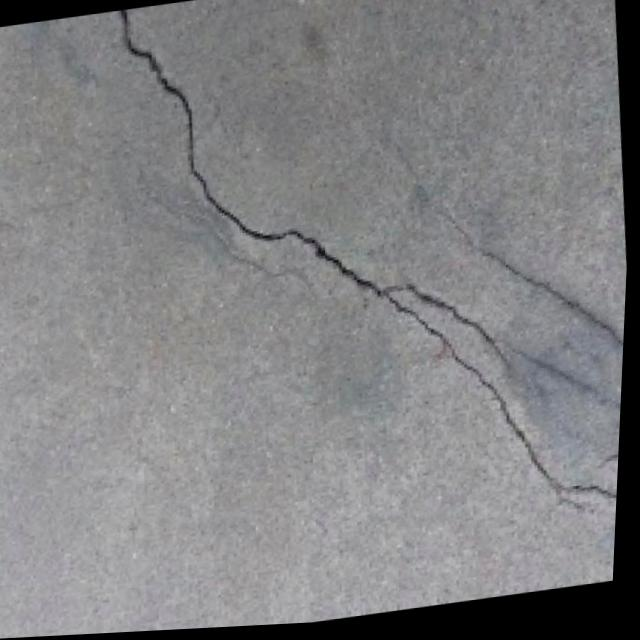Crack: (53, 0, 640, 637)
